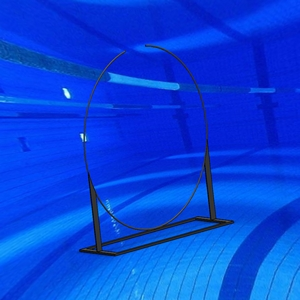circle: (79, 43, 236, 257)
